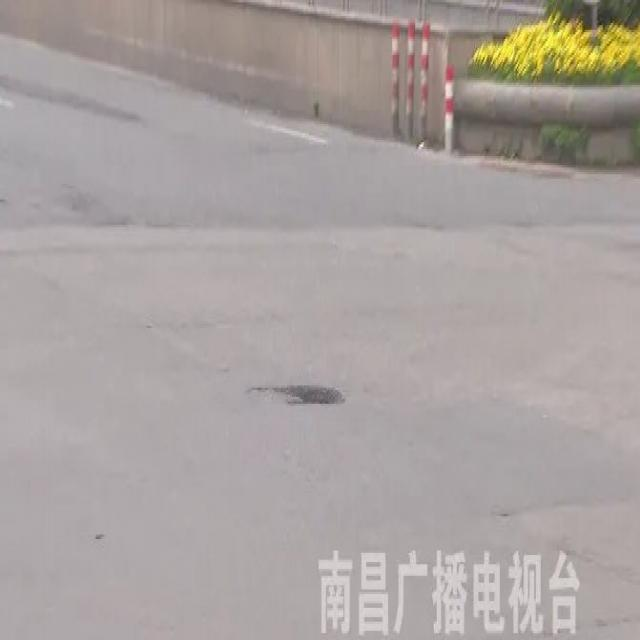Pothole: (248, 380, 346, 410)
